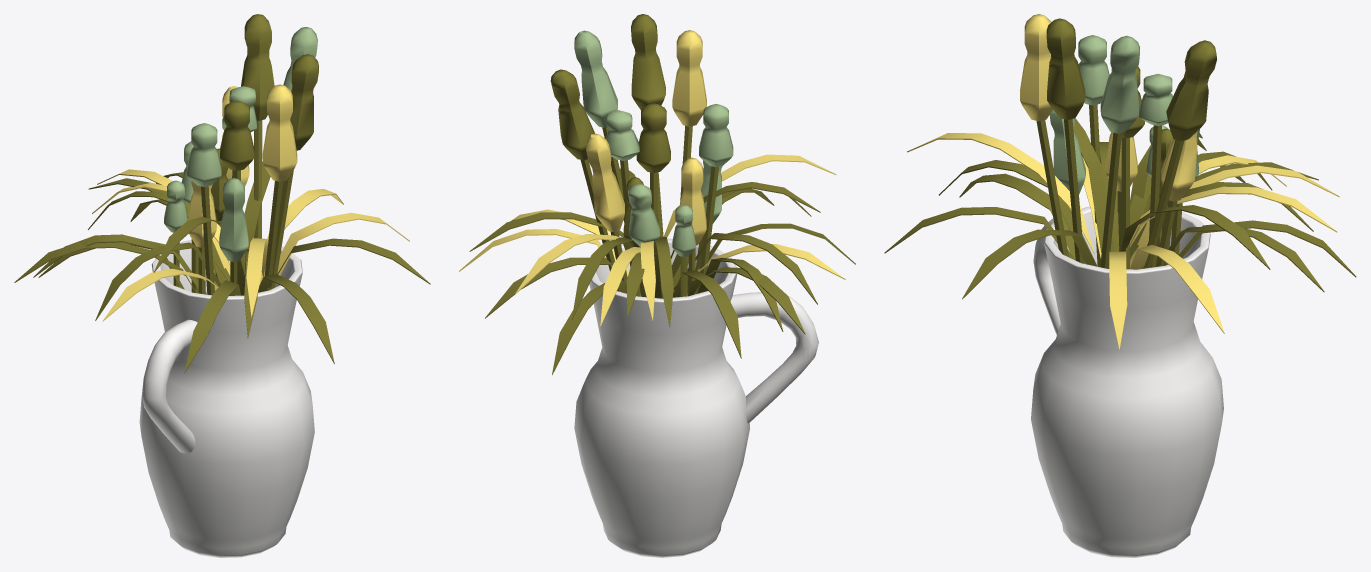
File: Flower_Vase_with_Flowers_1.glb
3 renders of one model, left to right at view 1: azimuth 30°, elevation 25°; view 2: azimuth 150°, elevation 25°; view 3: azimuth 270°, elevation 25°, orthographic. The views are drawn at different scales.
Parts seen in each view (by area): view 1: Vase_with_Flowers_1; view 2: Vase_with_Flowers_1; view 3: Vase_with_Flowers_1.
Part boxes in pixels (left/top/right/bottom): Vase_with_Flowers_1: left=14, top=14, right=430, bottom=557; Vase_with_Flowers_1: left=459, top=14, right=855, bottom=557; Vase_with_Flowers_1: left=884, top=14, right=1356, bottom=557.
Bounding box in the file's own units: 0.3683 × 0.4808 × 0.3818.
2 materials, 2 textured.
